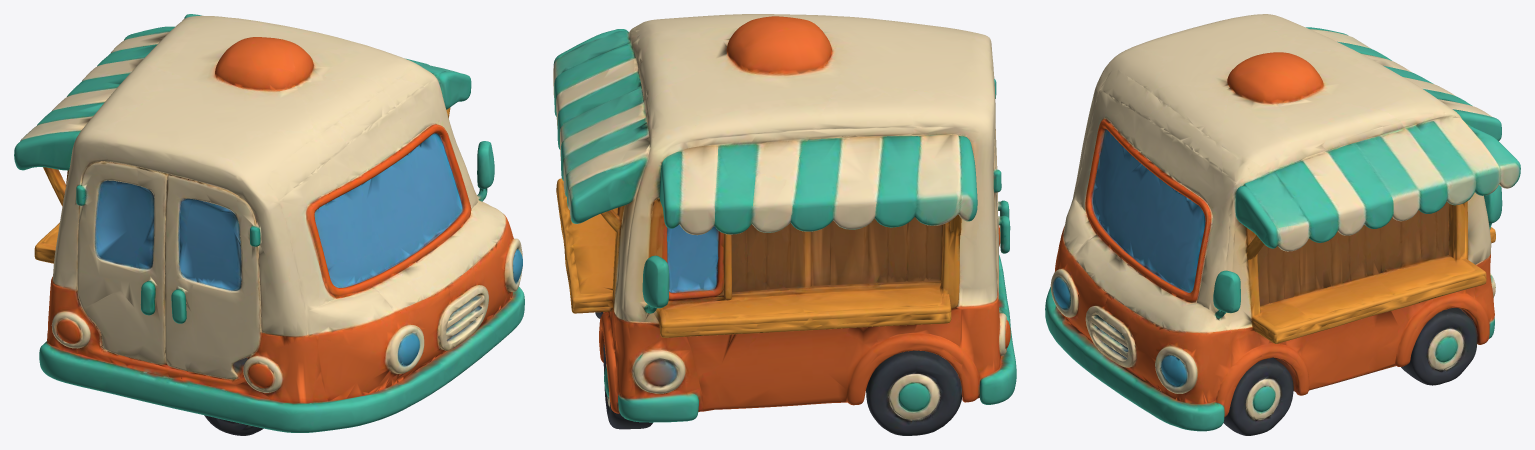
File: truck.glb
The picture shows the model from 3 angles, left to right: view 1: azimuth 30°, elevation 25°; view 2: azimuth 150°, elevation 25°; view 3: azimuth 270°, elevation 25°; orthographic projection. The views are drawn at different scales.
Visible parts, largest first — view 1: tripo_node_4d729a0b-f813-465e-86b2-a664e7d62e59; view 2: tripo_node_4d729a0b-f813-465e-86b2-a664e7d62e59; view 3: tripo_node_4d729a0b-f813-465e-86b2-a664e7d62e59.
Part boxes in pixels (box(x1,y1,x2,y2)): tripo_node_4d729a0b-f813-465e-86b2-a664e7d62e59: box(14, 14, 524, 435); tripo_node_4d729a0b-f813-465e-86b2-a664e7d62e59: box(553, 14, 1016, 435); tripo_node_4d729a0b-f813-465e-86b2-a664e7d62e59: box(1045, 14, 1520, 435).
Size of the model in its own units: 0.9746 by 0.6707 by 0.9806.
Materials: 1 (1 with a texture image).
